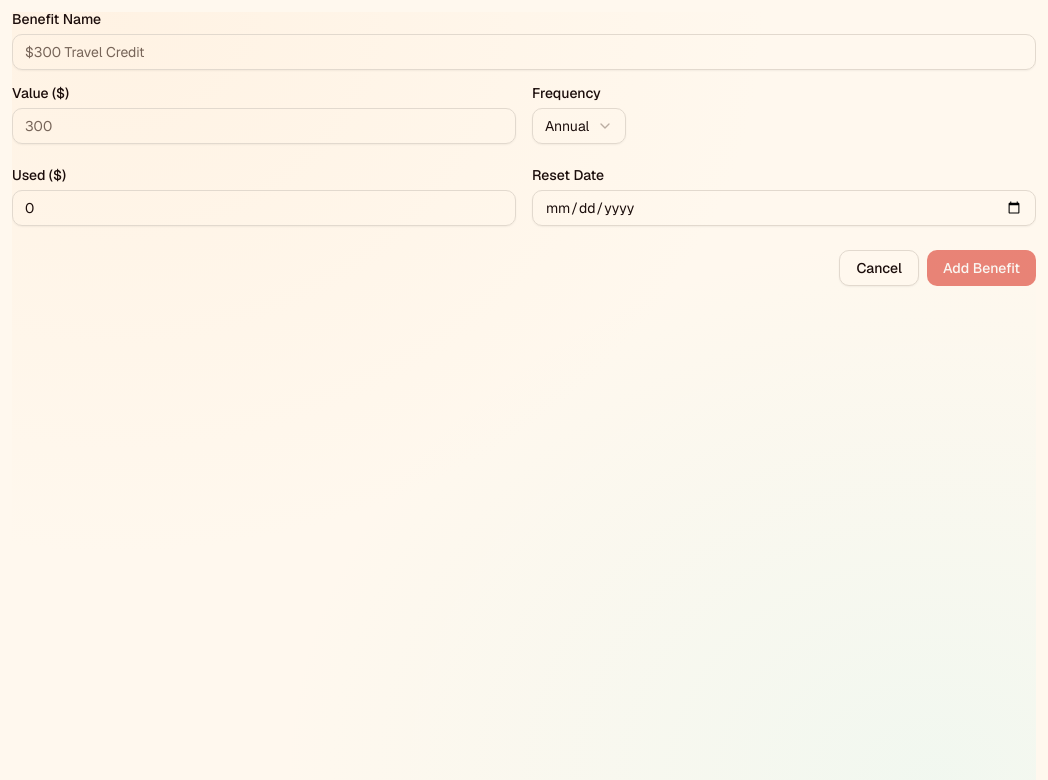
BenefitForm — API calls › shows error message when API returns error
Type "Lounge Access" into the field labelled "Benefit Name" at coordinates (524, 52), box [12,34,1036,70]
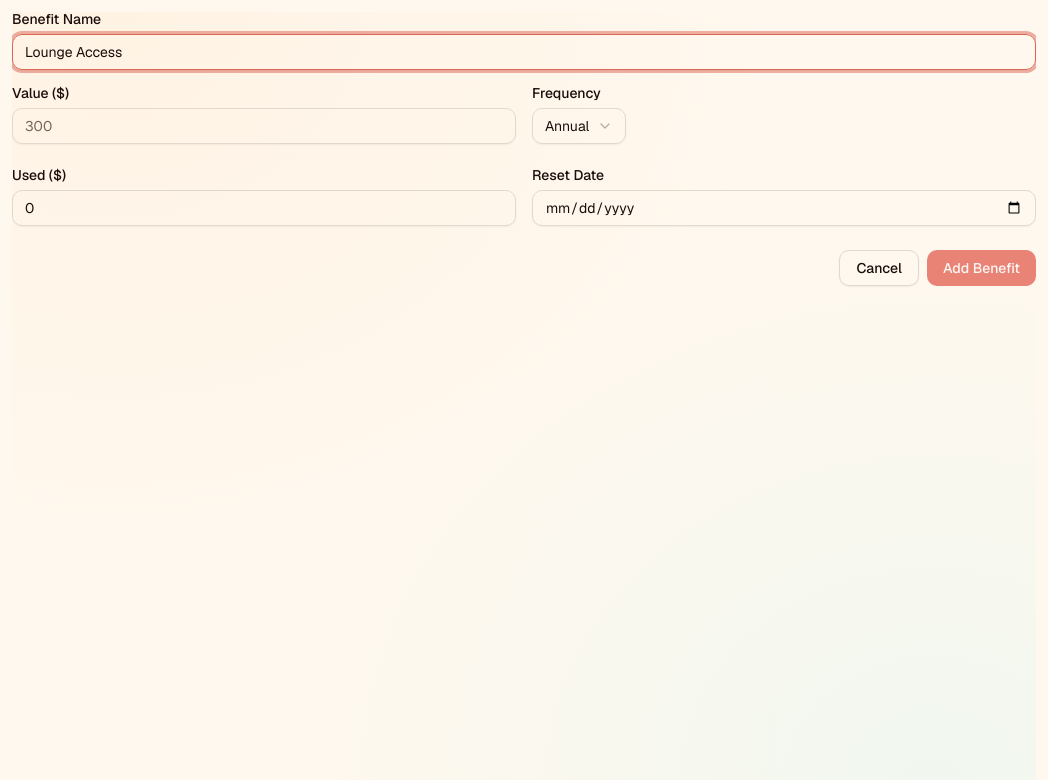
Type "50" into the number field labelled "Value ($)" at coordinates (264, 126), box [12,108,516,144]
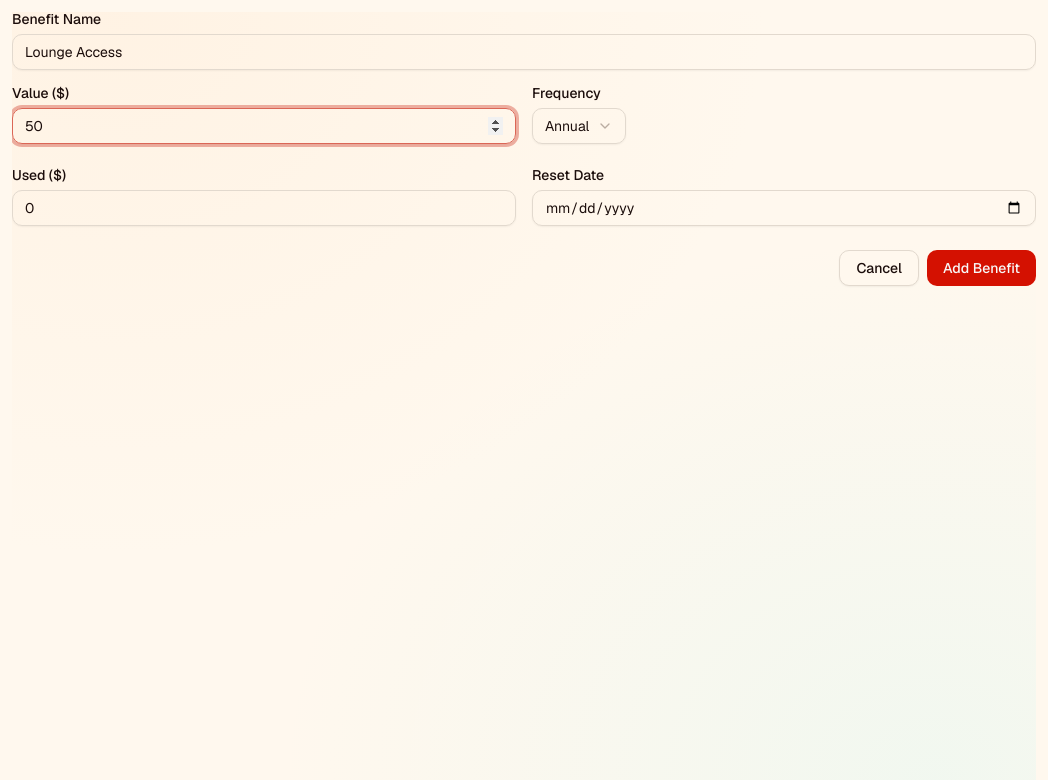
Click the button "Add Benefit" at coordinates (982, 268), box [927,250,1036,286]
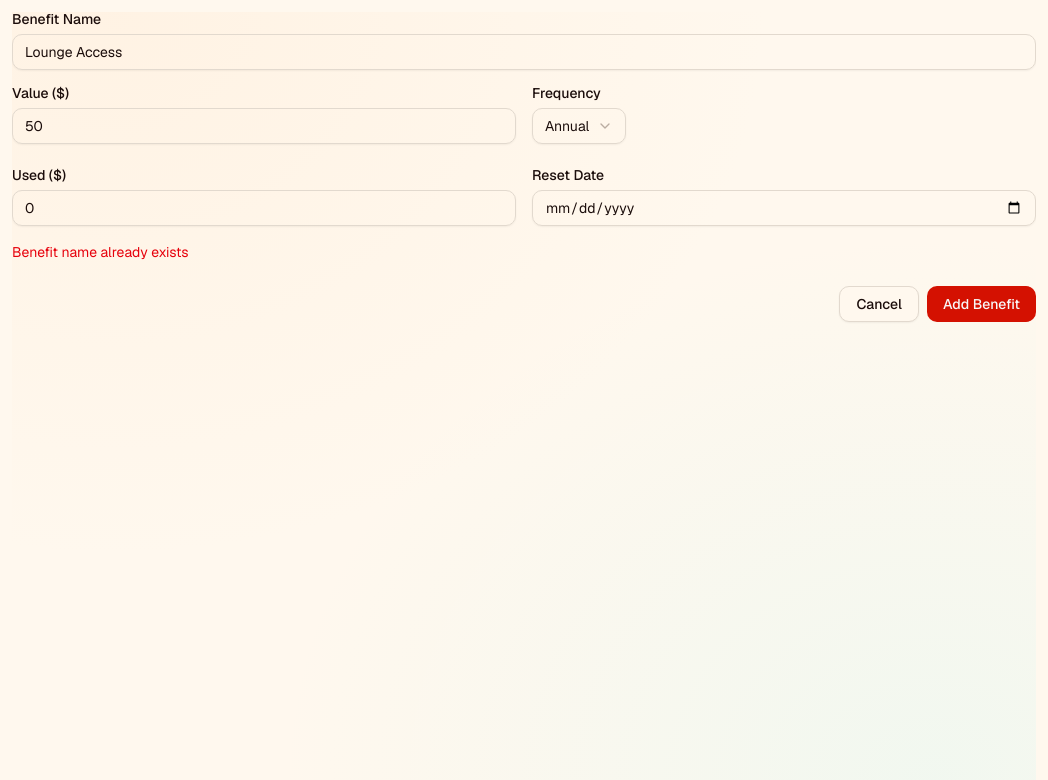
Check: the text "Benefit name already exists" is shown, box [12,243,189,261]
